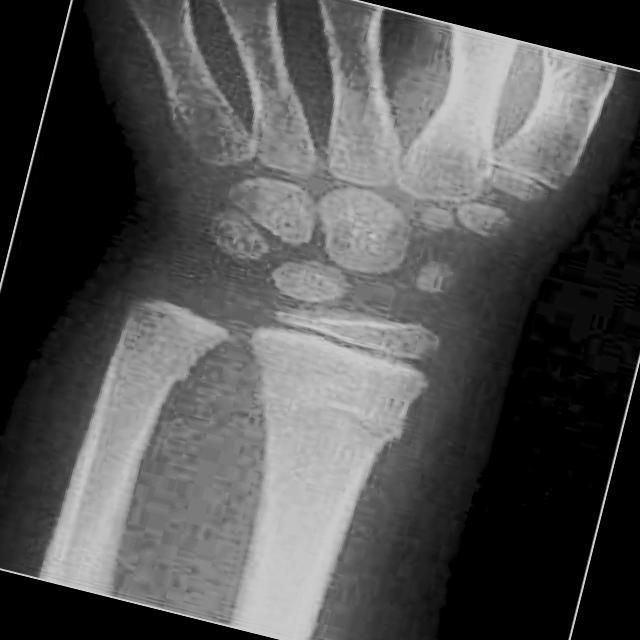GreenStick Fracture: (336, 396, 408, 448)
